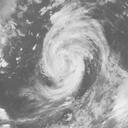cyclone: (42, 13, 103, 88)
